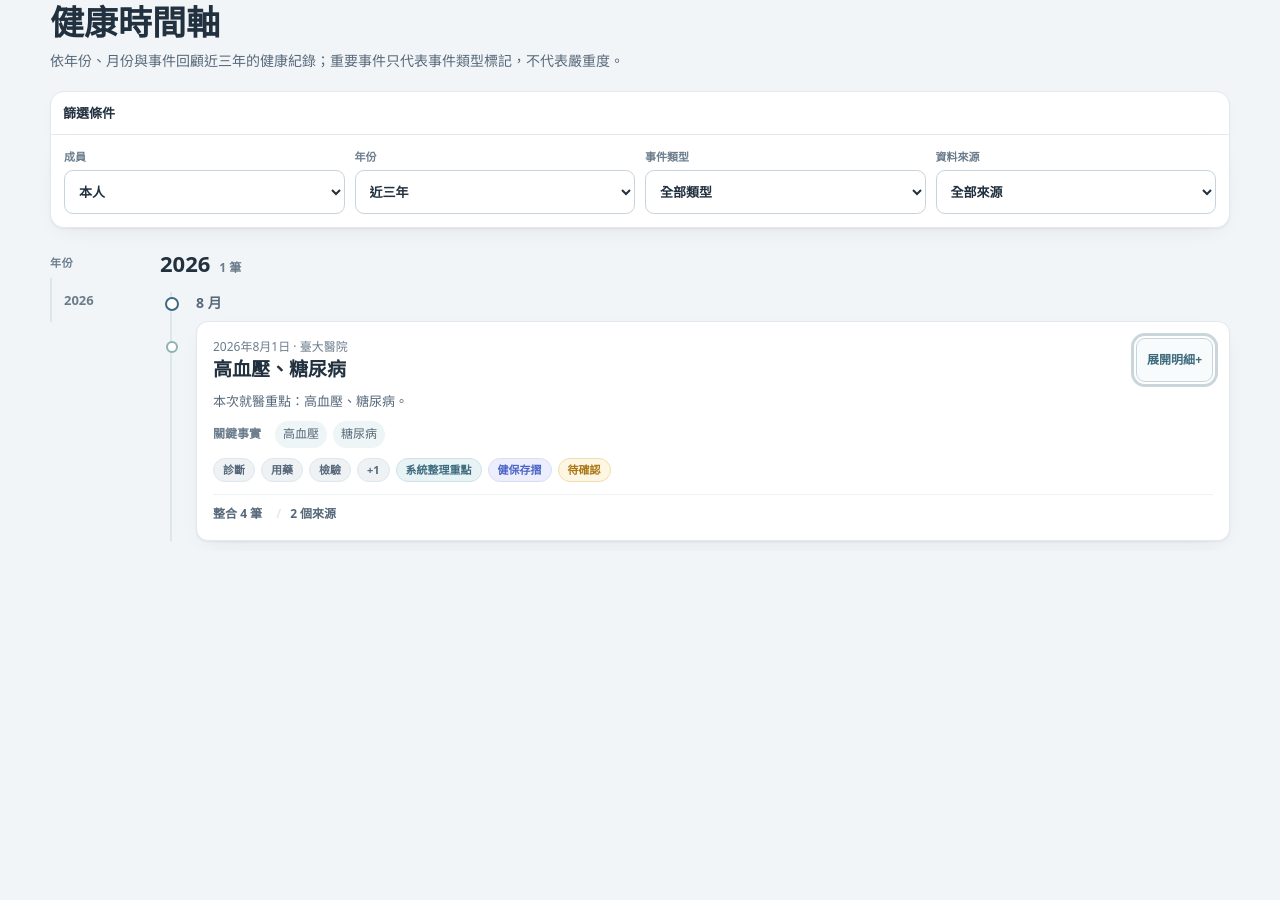
HealthTimelinePage member and mobile year behavior › renders an encounter as one summary card and loads categorized details accessibly
Expected: the heading "高血壓、糖尿病" is shown, [213,356,346,382]
Expected: the text "2026年8月1日 · 臺大醫院" is shown, [213,338,348,356]
What coordinates should you click on to do the following:
click the button with aria-label "展開 高血壓、糖尿病的明細"
I would click on:
 (1175, 360)
Its box is [1136,338,1213,382].
(page scrolled)
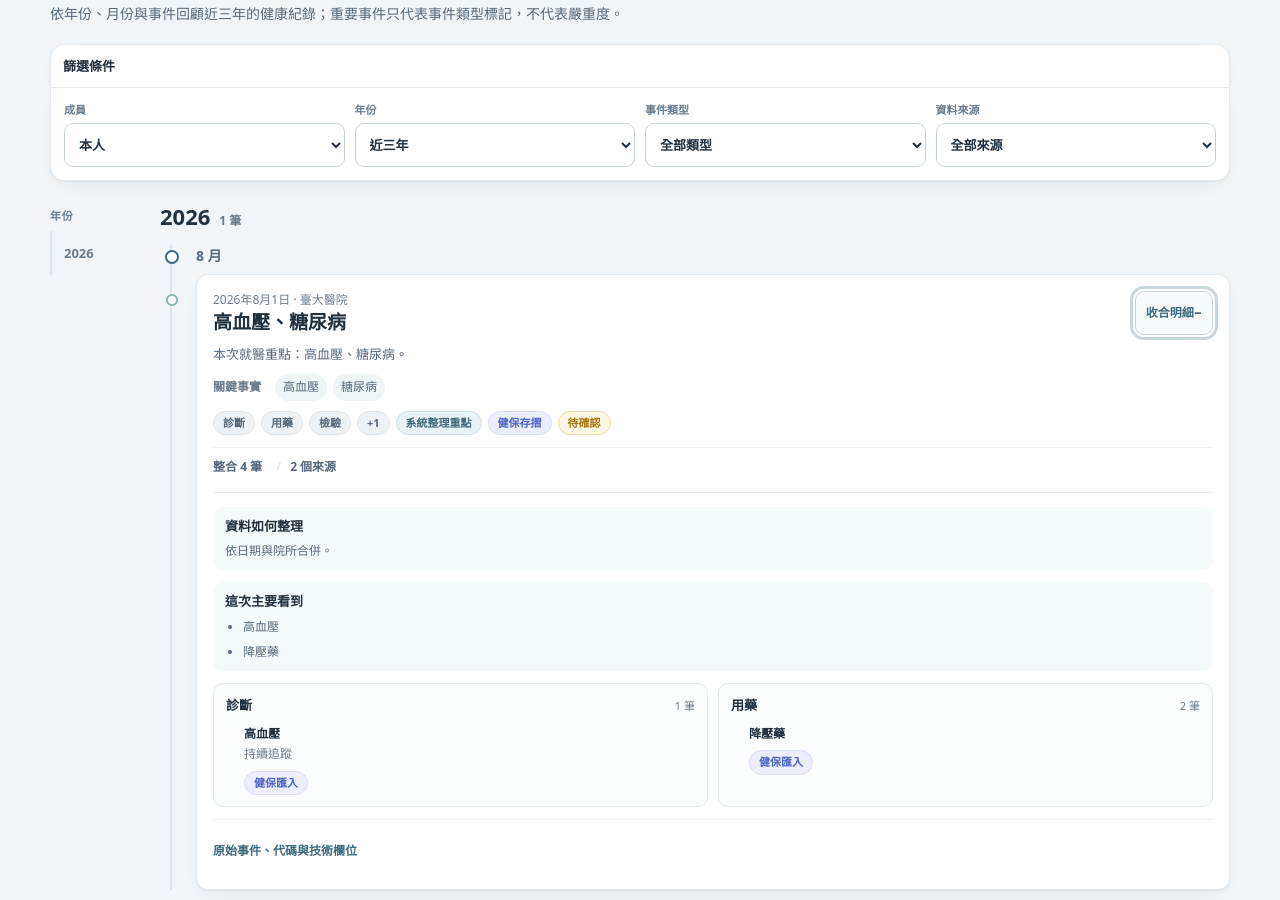
Now the heading "資料如何整理" is shown, box [225,517,303,535]
Now the heading "診斷" is shown, box [226,696,252,716]
Now the heading "這次主要看到" is shown, box [225,592,303,610]
What coordinates should you click on to do the following:
click the heading "原始事件、代碼與技術欄位"
I would click on:
 (285, 850)
Its box is [213,842,357,859].
(page scrolled)
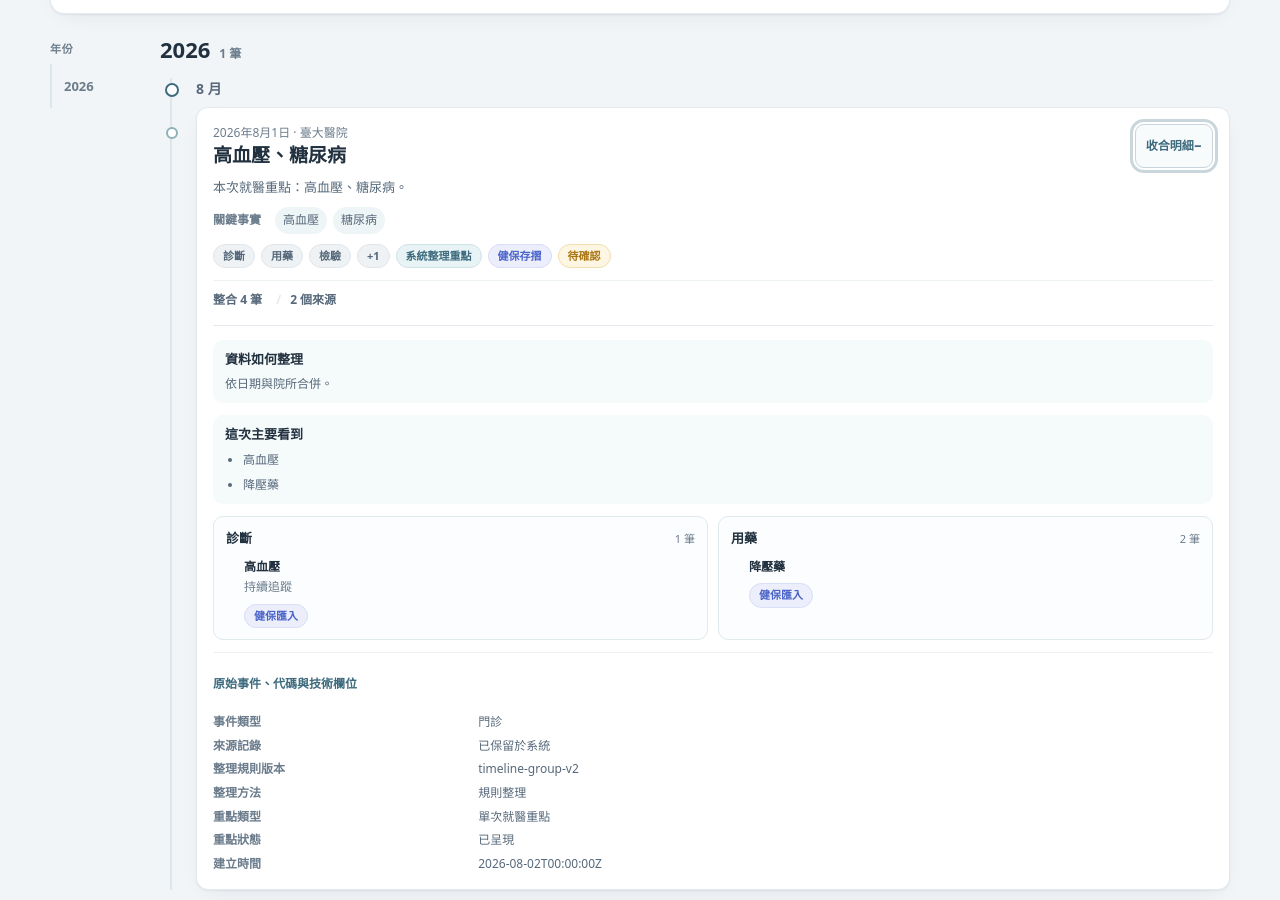
Now the button named "展開 高血壓、糖尿病的明細" is expanded, box [1135,124,1213,168]
Now the text "timeline-group-v2" is shown, box [478,760,579,778]
